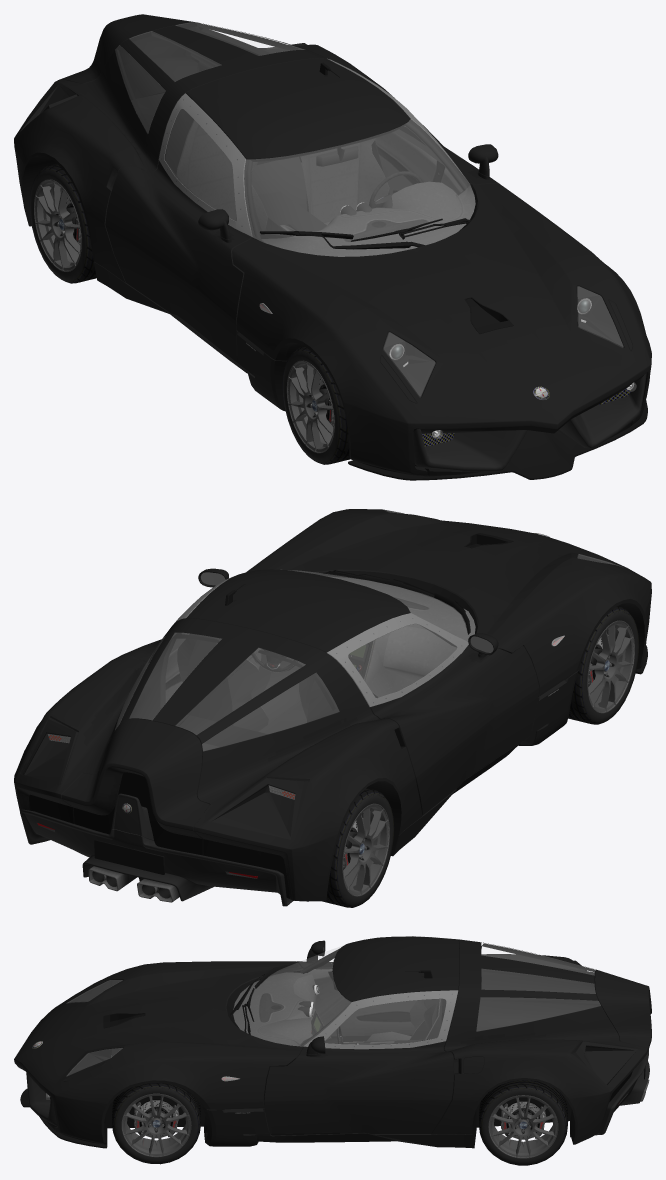
The model's file is sports.glb.
3 views of the same model, one above another, from view 1: azimuth 30°, elevation 25°; view 2: azimuth 150°, elevation 25°; view 3: azimuth 270°, elevation 25° (orthographic). The views are drawn at different scales.
Visible parts, largest first — view 1: LOD_A_HOOD_mm_ext_33, LOD_A_BODY_mm_ext_19, LOD_A_INTERIOR_mm_cab_29, LOD_A_GLASS_FRONT_mm_windows_35, LOD_A_DOOR_RIGHT_mm_ext_26, LOD_A_FRONTBUMPER_mm_misc_48, LOD_A_TYRE_mm_tyre.003_0, LOD_A_TYRE_mm_tyre.002_1, LOD_A_GLASS_REAR_mm_windows_43, LOD_A_CHASSIS_mm_misc_44, LOD_A_GLASS_RIGHT_mm_windows_30, LOD_A_HOOD_mm_misc_4 (+9 smaller); view 2: LOD_A_BODY_mm_ext_19, LOD_A_HOOD_mm_ext_33, LOD_A_INTERIOR_mm_cab_29, LOD_A_DOOR_RIGHT_mm_ext_26, LOD_A_GLASS_REAR_mm_windows_43, LOD_A_BODY_mm_misc_22, LOD_A_BOOT_mm_ext_11, LOD_A_REARBUMPER_mm_misc_42, LOD_A_TYRE_mm_tyre.002_1, LOD_A_TYRE_mm_tyre.003_0, LOD_A_GLASS_RIGHT_mm_windows_30, LOD_A_BOOT_mm_misc_9 (+5 smaller); view 3: LOD_A_BODY_mm_ext_19, LOD_A_HOOD_mm_ext_33, LOD_A_DOOR_LEFT_mm_ext_17, LOD_A_INTERIOR_mm_cab_29, LOD_A_CHASSIS_mm_misc_44, LOD_A_GLASS_FRONT_mm_windows_35, LOD_A_TYRE_mm_tyre.001_2, LOD_A_TYRE_mm_tyre_32, LOD_A_GLASS_REAR_mm_windows_43, LOD_A_GLASS_LEFT_mm_windows_37, LOD_A_DOOR_RIGHT_mm_cab_23, LOD_A_BOOT_mm_ext_11 (+7 smaller).
Boxes of the visible parts, x1,y1,x2,y2 form: LOD_A_HOOD_mm_ext_33: [232, 184, 651, 475]; LOD_A_BODY_mm_ext_19: [14, 22, 410, 410]; LOD_A_INTERIOR_mm_cab_29: [164, 119, 475, 256]; LOD_A_GLASS_FRONT_mm_windows_35: [244, 119, 475, 256]; LOD_A_DOOR_RIGHT_mm_ext_26: [105, 160, 251, 362]; LOD_A_FRONTBUMPER_mm_misc_48: [348, 372, 647, 480]; LOD_A_TYRE_mm_tyre.003_0: [282, 346, 350, 464]; LOD_A_TYRE_mm_tyre.002_1: [29, 164, 96, 283]; LOD_A_GLASS_REAR_mm_windows_43: [115, 22, 303, 132]; LOD_A_CHASSIS_mm_misc_44: [22, 22, 303, 411]; LOD_A_GLASS_RIGHT_mm_windows_30: [164, 109, 236, 220]; LOD_A_HOOD_mm_misc_4: [383, 286, 623, 397]; LOD_A_BODY_mm_ext_19: [14, 569, 578, 901]; LOD_A_HOOD_mm_ext_33: [246, 509, 651, 696]; LOD_A_INTERIOR_mm_cab_29: [160, 576, 475, 747]; LOD_A_DOOR_RIGHT_mm_ext_26: [370, 644, 539, 815]; LOD_A_GLASS_REAR_mm_windows_43: [116, 633, 339, 750]; LOD_A_BODY_mm_misc_22: [22, 570, 477, 898]; LOD_A_BOOT_mm_ext_11: [61, 719, 209, 838]; LOD_A_REARBUMPER_mm_misc_42: [20, 809, 293, 906]; LOD_A_TYRE_mm_tyre.002_1: [322, 788, 394, 907]; LOD_A_TYRE_mm_tyre.003_0: [568, 606, 639, 724]; LOD_A_GLASS_RIGHT_mm_windows_30: [348, 624, 456, 697]; LOD_A_BOOT_mm_misc_9: [73, 772, 203, 855]; LOD_A_BODY_mm_ext_19: [206, 936, 648, 1148]; LOD_A_HOOD_mm_ext_33: [14, 961, 303, 1144]; LOD_A_DOOR_LEFT_mm_ext_17: [264, 1041, 454, 1135]; LOD_A_INTERIOR_mm_cab_29: [233, 948, 446, 1046]; LOD_A_CHASSIS_mm_misc_44: [104, 943, 600, 1147]; LOD_A_GLASS_FRONT_mm_windows_35: [233, 946, 350, 1046]; LOD_A_TYRE_mm_tyre.001_2: [479, 1080, 567, 1165]; LOD_A_TYRE_mm_tyre_32: [112, 1083, 200, 1164]; LOD_A_GLASS_REAR_mm_windows_43: [476, 943, 600, 1031]; LOD_A_GLASS_LEFT_mm_windows_37: [325, 999, 445, 1044]; LOD_A_DOOR_RIGHT_mm_cab_23: [307, 967, 417, 1036]; LOD_A_BOOT_mm_ext_11: [594, 970, 651, 1050].
Size of the model in its own units: 1.95 by 1.27 by 4.65.
10 materials, 9 textured.
